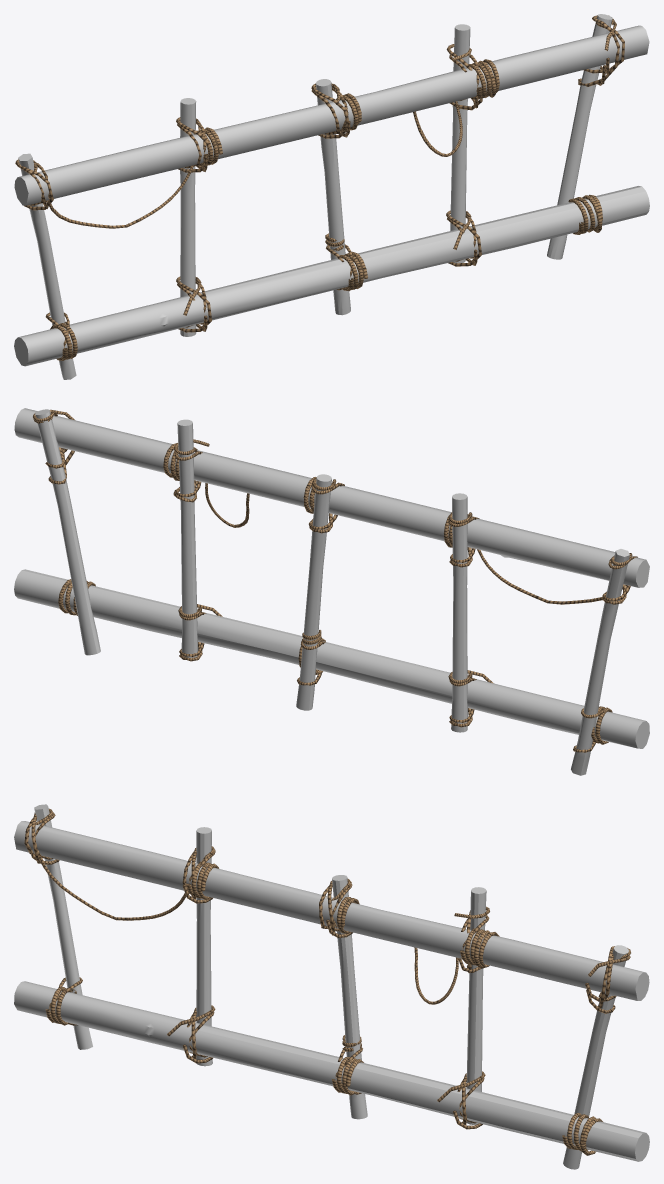
File: SM_Scaffold_handrail_1.fbx
3 renders of one model, top to bottom at view 1: azimuth 30°, elevation 25°; view 2: azimuth 150°, elevation 25°; view 3: azimuth 330°, elevation 25°, orthographic.
Parts seen in each view (by area): view 1: SM_Scaffold_handrail_1; view 2: SM_Scaffold_handrail_1; view 3: SM_Scaffold_handrail_1.
Part boxes in pixels (x1,y1,x2,y2): SM_Scaffold_handrail_1: (14, 14, 649, 379); SM_Scaffold_handrail_1: (14, 408, 649, 775); SM_Scaffold_handrail_1: (14, 804, 649, 1169).
Size of the model in its own units: 334 by 132 by 26.33.
